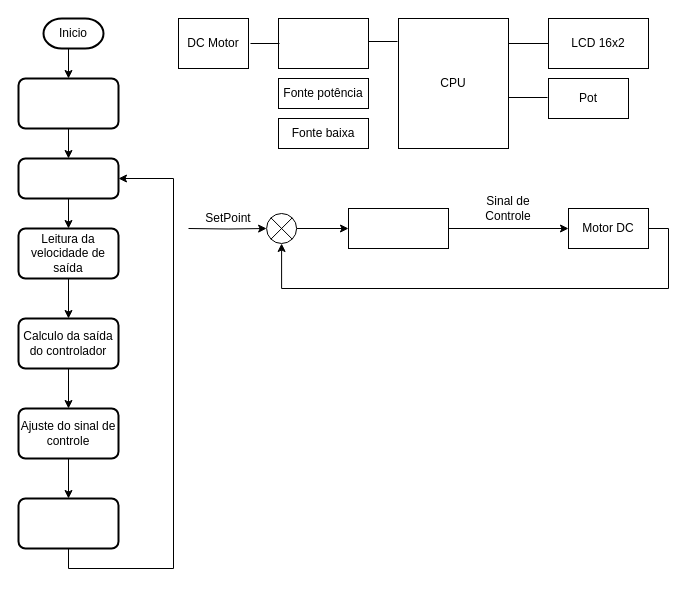
Image size: 694x594. Some labels were removed from this diagram. Each missing label, with the centre of its shape:
"Configuração de registradores e periféricos" goes at point 68,103.
"Controlador PID" goes at point 398,228.
"Driver" goes at point 323,43.
"Exibe setpoint e velocida atual" goes at point 68,523.
"Leitura do setpoint" goes at point 68,178.
